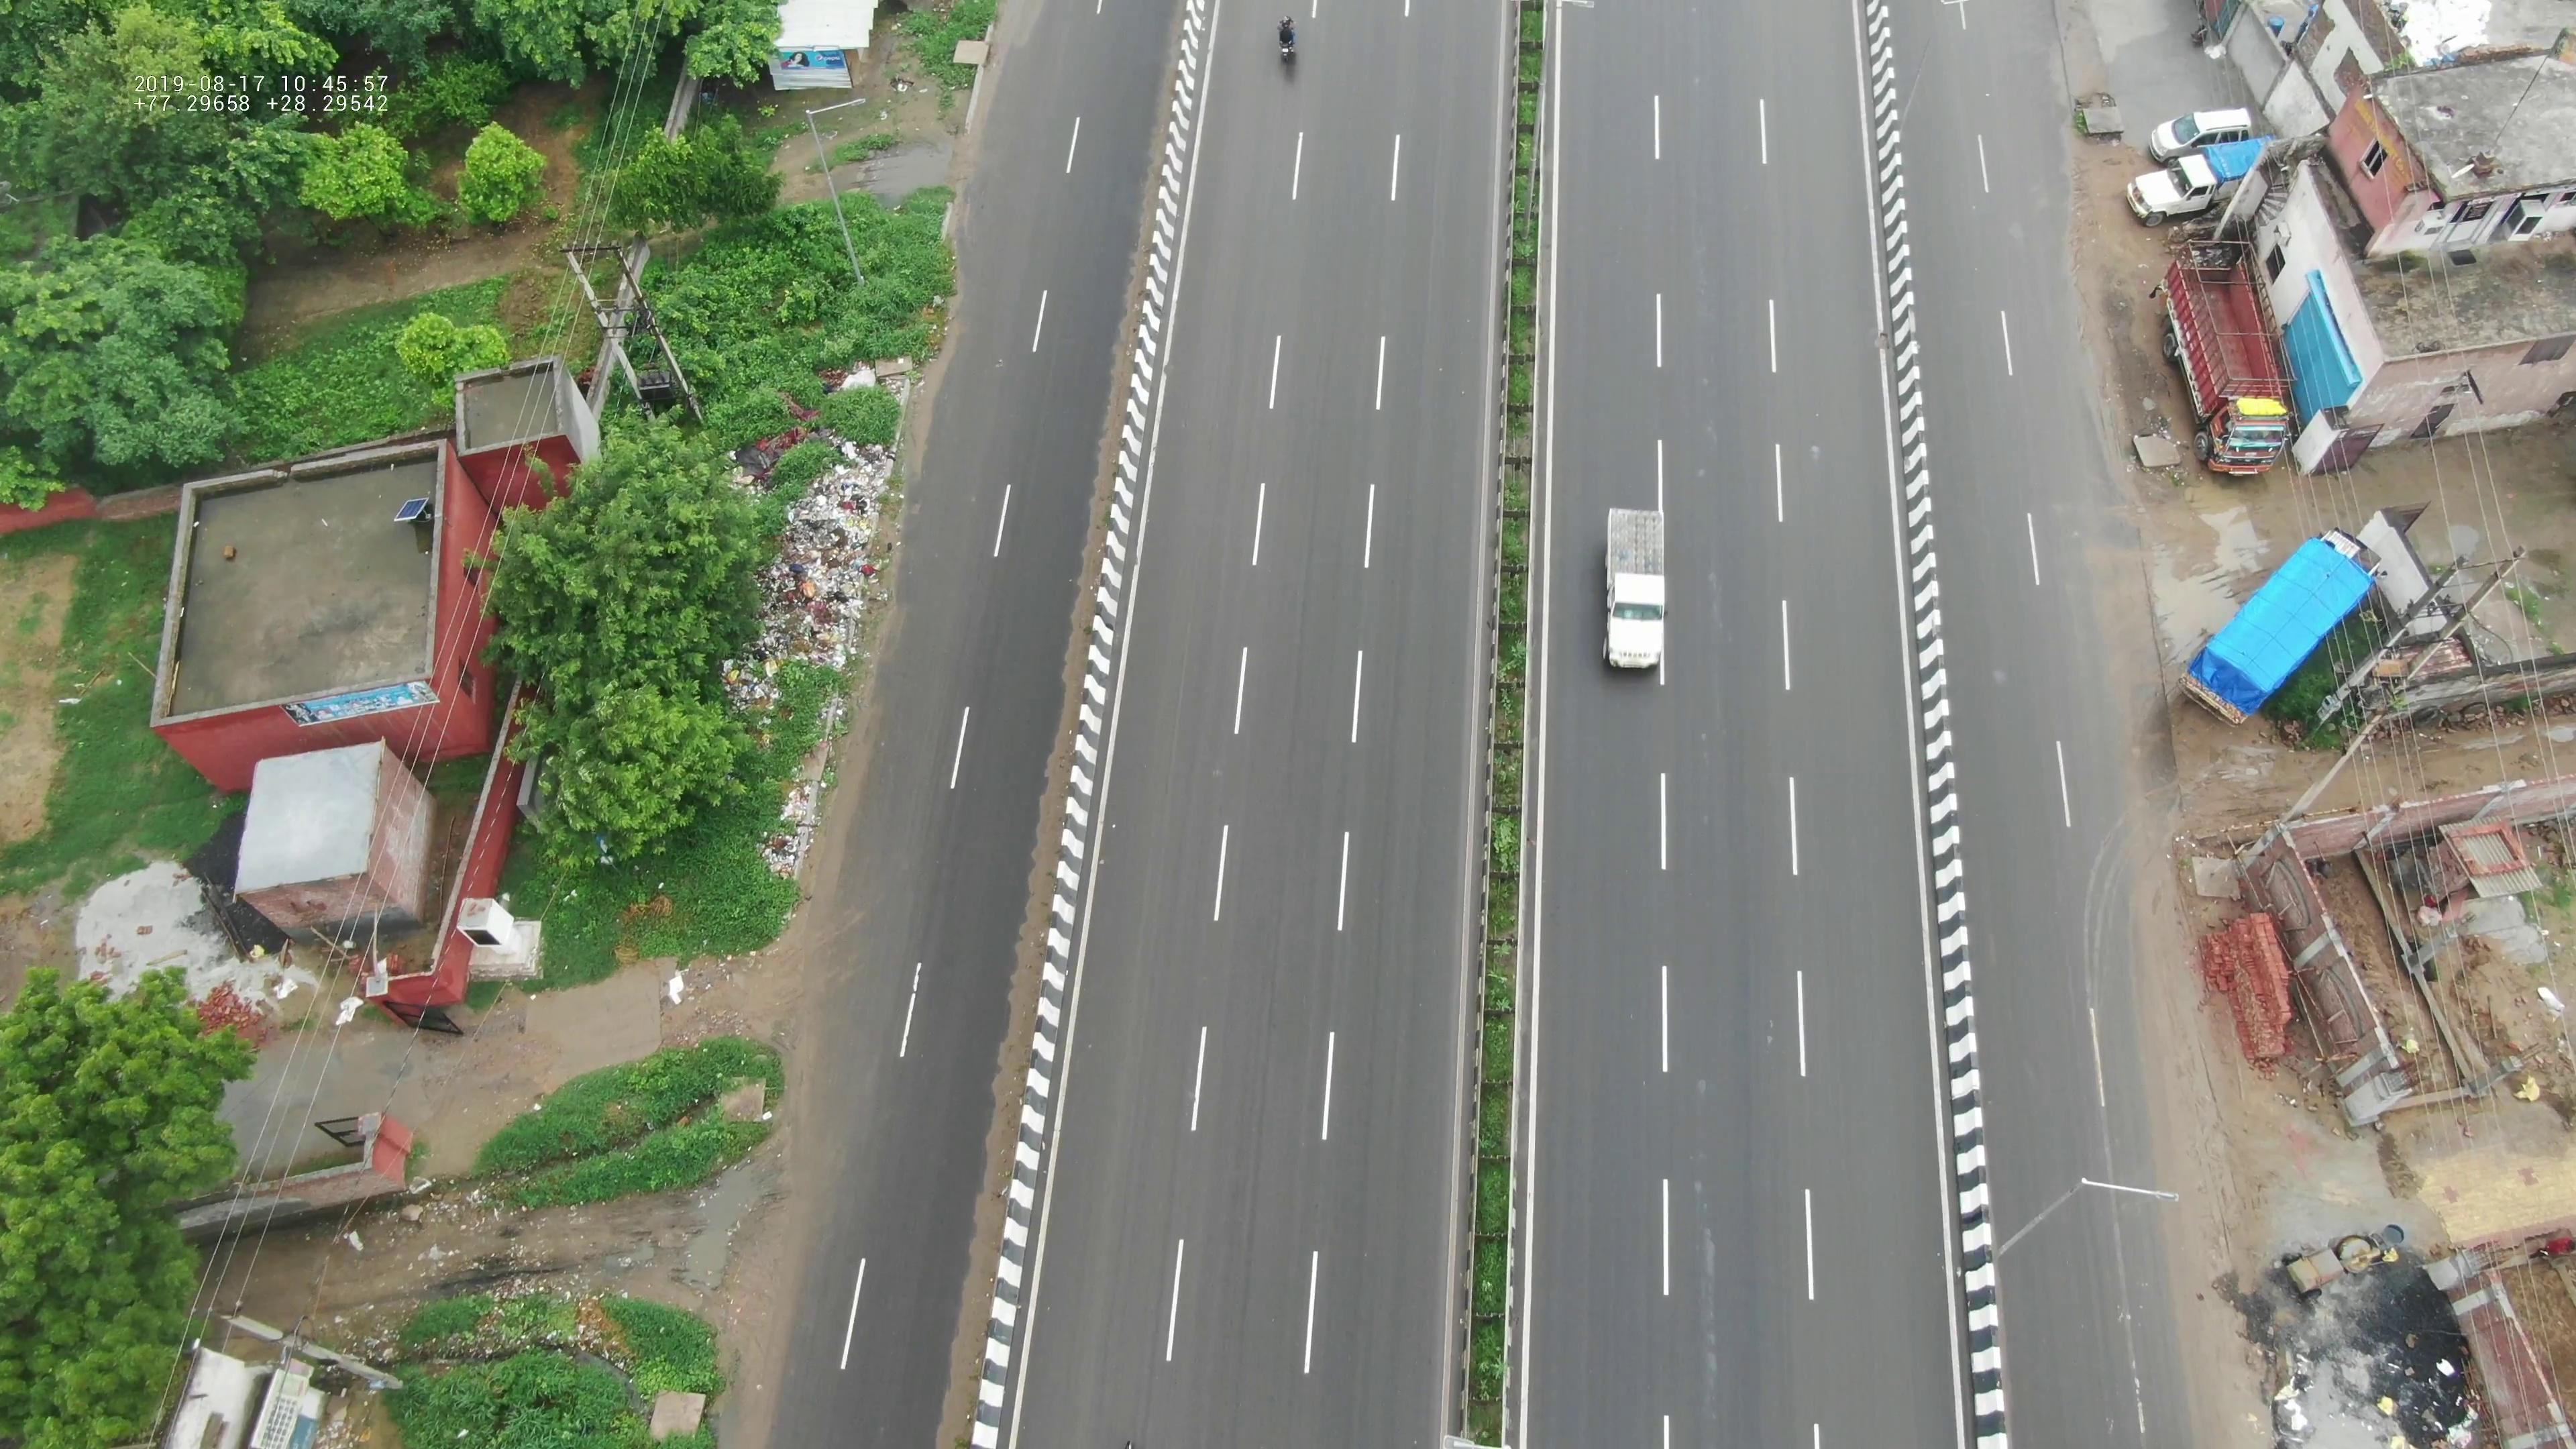Road_side_garbage: (720, 430, 906, 747)
